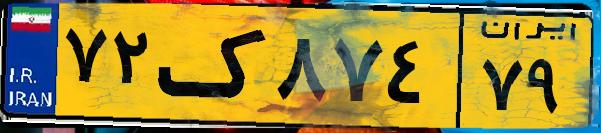2: (110, 28, 158, 98)
4: (385, 28, 445, 110)
7: (330, 28, 385, 110), (57, 26, 110, 100), (475, 38, 525, 113)
8: (270, 28, 330, 110)
9: (525, 38, 570, 115)
ک: (158, 12, 270, 120)
